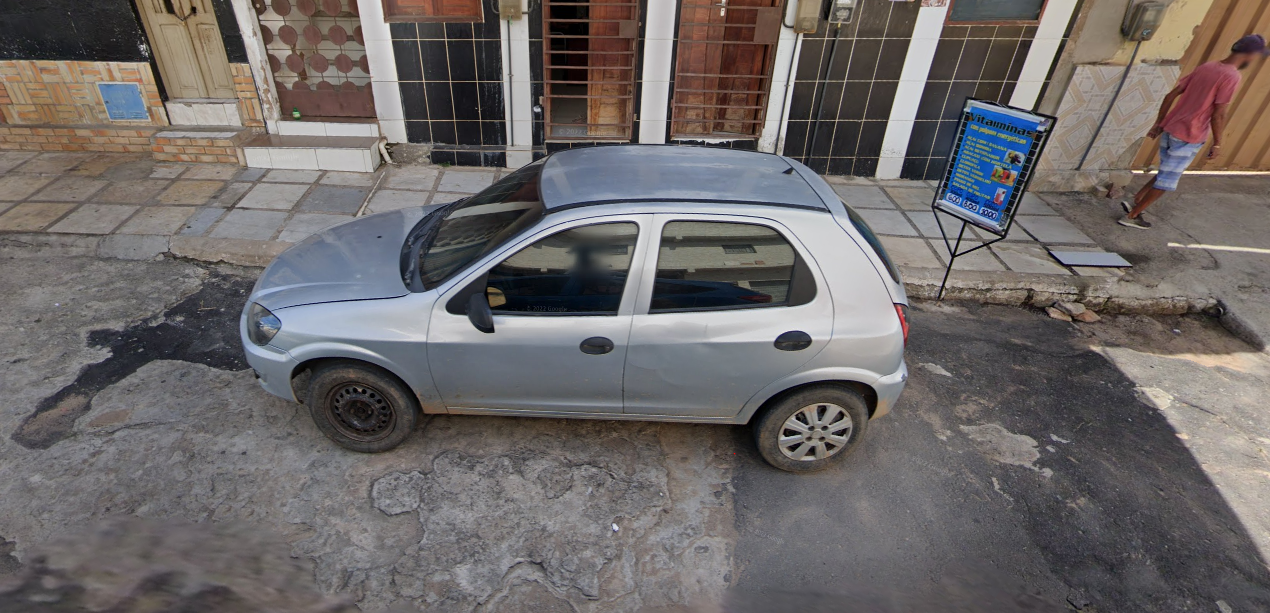car: (235, 134, 916, 494)
